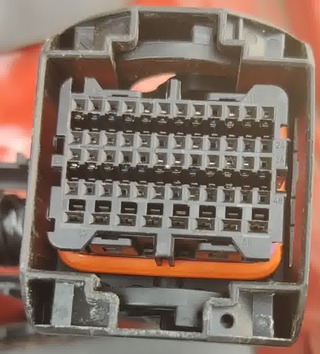connector: (19, 6, 315, 346)
